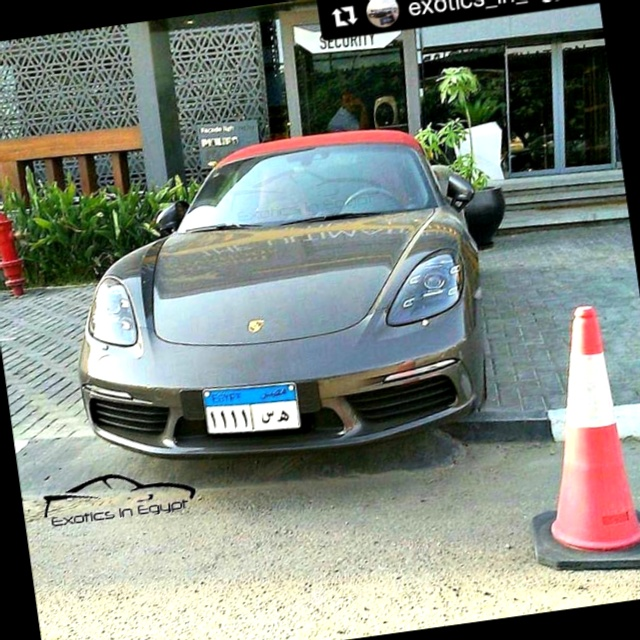License Plate: (196, 372, 306, 444)
